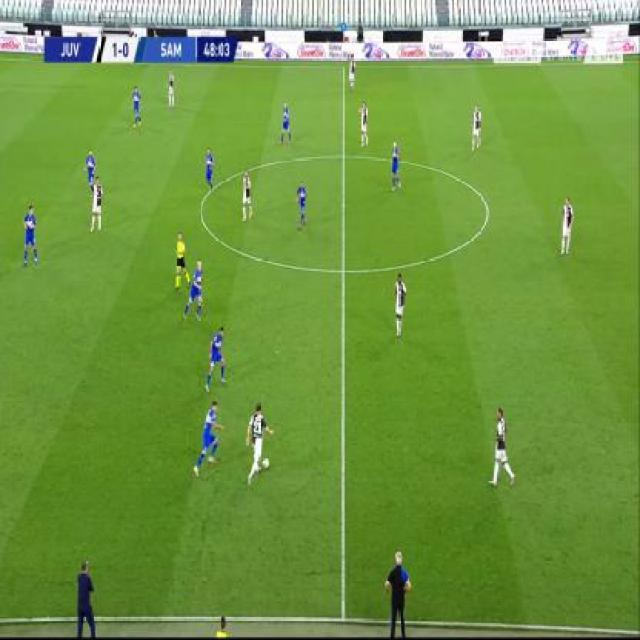ball: (262, 456, 270, 470)
player: (382, 550, 415, 639), (245, 400, 274, 489), (192, 399, 225, 476), (489, 405, 517, 490), (74, 555, 99, 640), (205, 325, 228, 390), (184, 260, 204, 323), (23, 203, 40, 269), (392, 272, 408, 337), (560, 194, 576, 257), (174, 229, 190, 291), (90, 175, 104, 234), (295, 178, 309, 232), (389, 139, 403, 192), (241, 169, 254, 222), (279, 100, 293, 146), (357, 99, 370, 147), (130, 84, 143, 129), (83, 149, 96, 191), (204, 146, 215, 195), (471, 103, 482, 152), (213, 615, 232, 640), (166, 68, 177, 108), (349, 53, 357, 92)
